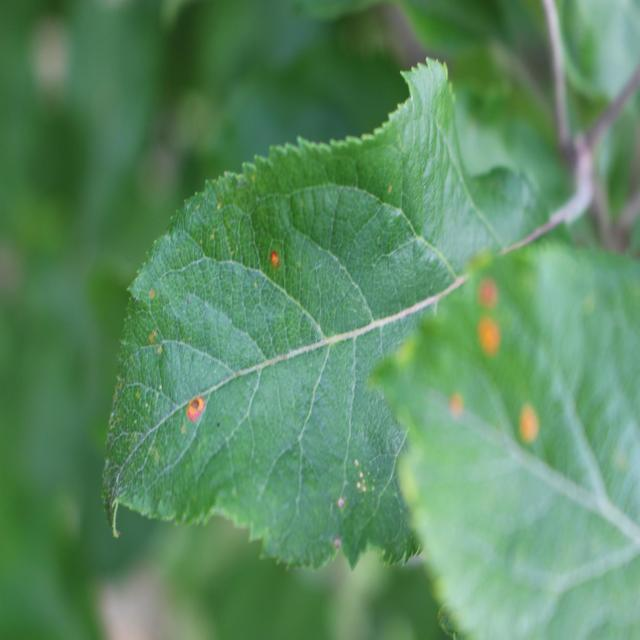Rust: (478, 312, 514, 378), (464, 270, 499, 316), (512, 400, 548, 442), (184, 373, 207, 436), (439, 393, 469, 430), (261, 235, 284, 275)
